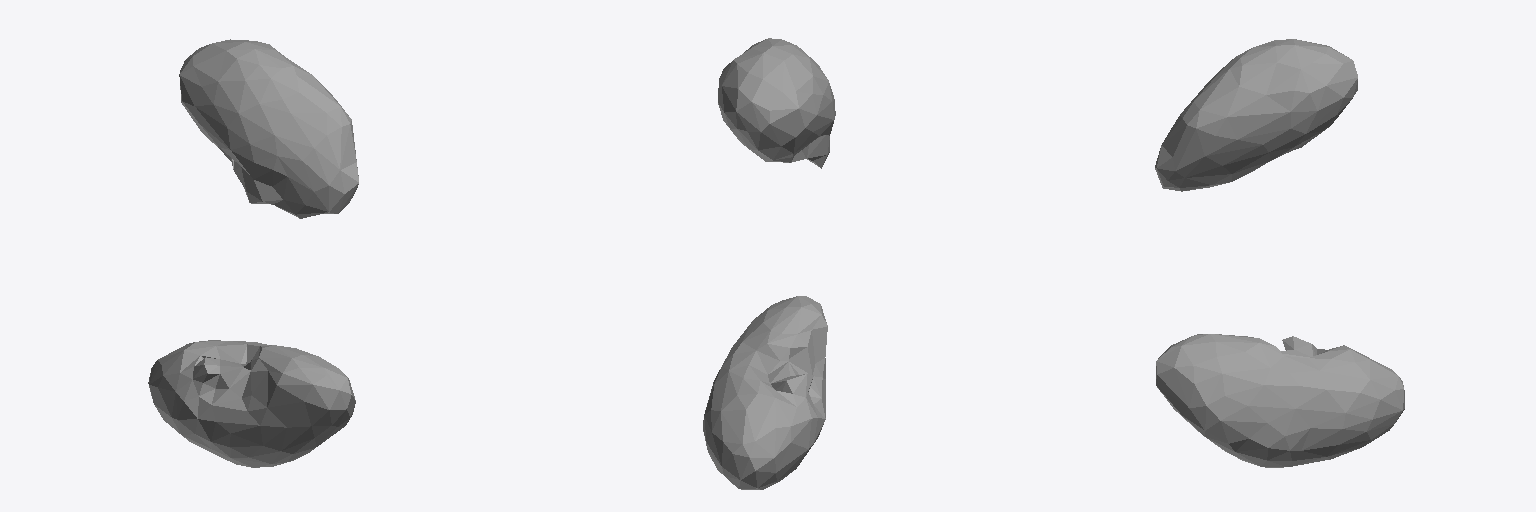
Rendered from Eve_Kidneys.obj.
3 renders of one model, left to right at view 1: azimuth 30°, elevation 25°; view 2: azimuth 150°, elevation 25°; view 3: azimuth 270°, elevation 25°, orthographic.
Parts seen in each view (by area): view 1: Eve_Kidneys; view 2: Eve_Kidneys; view 3: Eve_Kidneys.
Boxes of the visible parts, x1,y1,x2,y2 form: Eve_Kidneys: [148, 39, 358, 467]; Eve_Kidneys: [703, 38, 835, 489]; Eve_Kidneys: [1155, 39, 1404, 467].
Size of the model in its own units: 67.42 by 216 by 117.